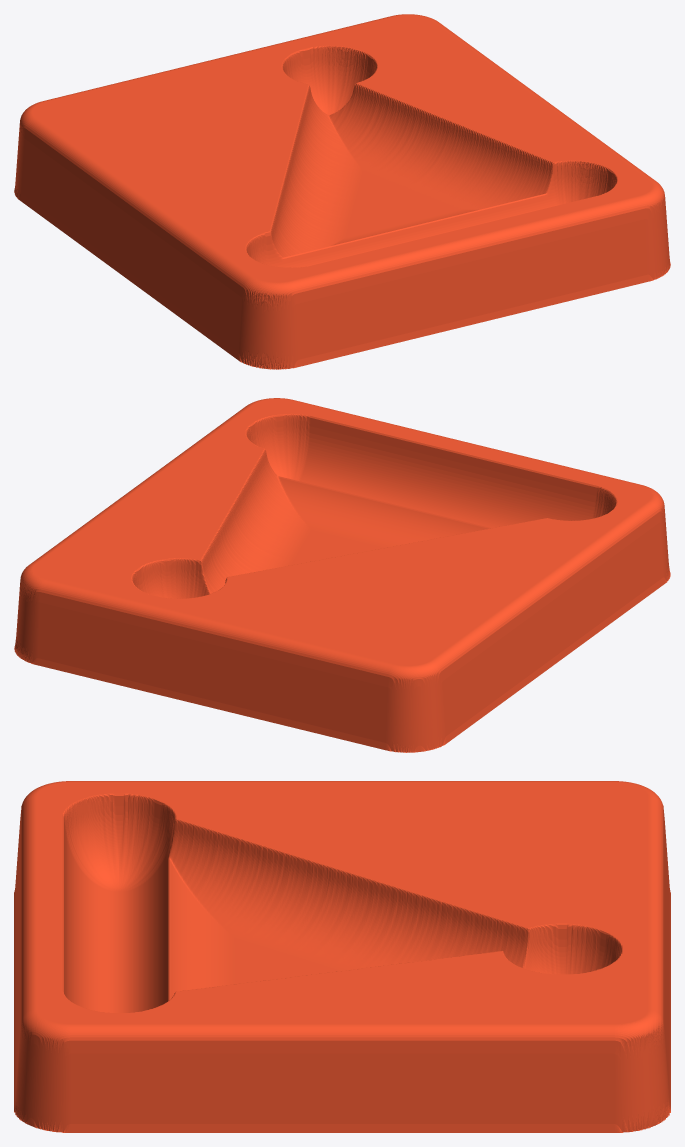
File: mold.glb
3 renders of one model, top to bottom at view 1: azimuth 30°, elevation 25°; view 2: azimuth 150°, elevation 25°; view 3: azimuth 270°, elevation 25°, orthographic. The views are drawn at different scales.
Parts seen in each view (by area): view 1: geometry_0; view 2: geometry_0; view 3: geometry_0.
Part boxes in pixels (x1=…): geometry_0: x1=14, y1=14, x2=670, y2=369; geometry_0: x1=14, y1=398, x2=670, y2=752; geometry_0: x1=14, y1=781, x2=670, y2=1132.
Bounding box in the file's own units: 0.0986 × 0.0175 × 0.105.
